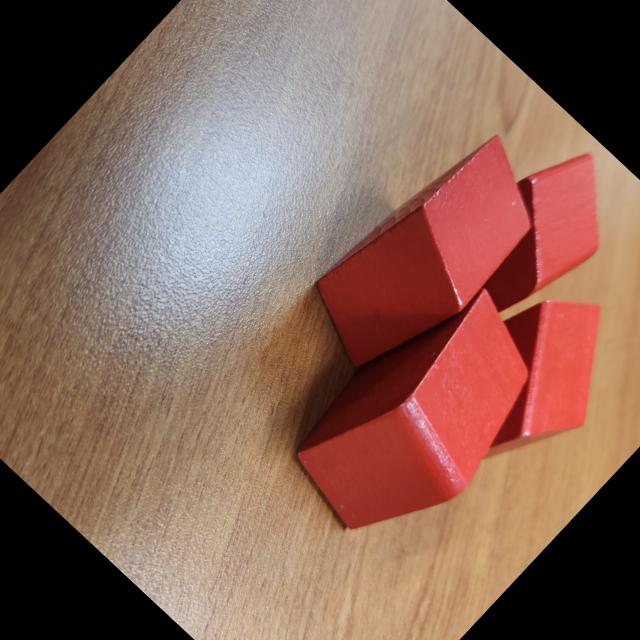red: (276, 264, 576, 570), (289, 112, 567, 397), (420, 261, 640, 498), (439, 129, 640, 337)
